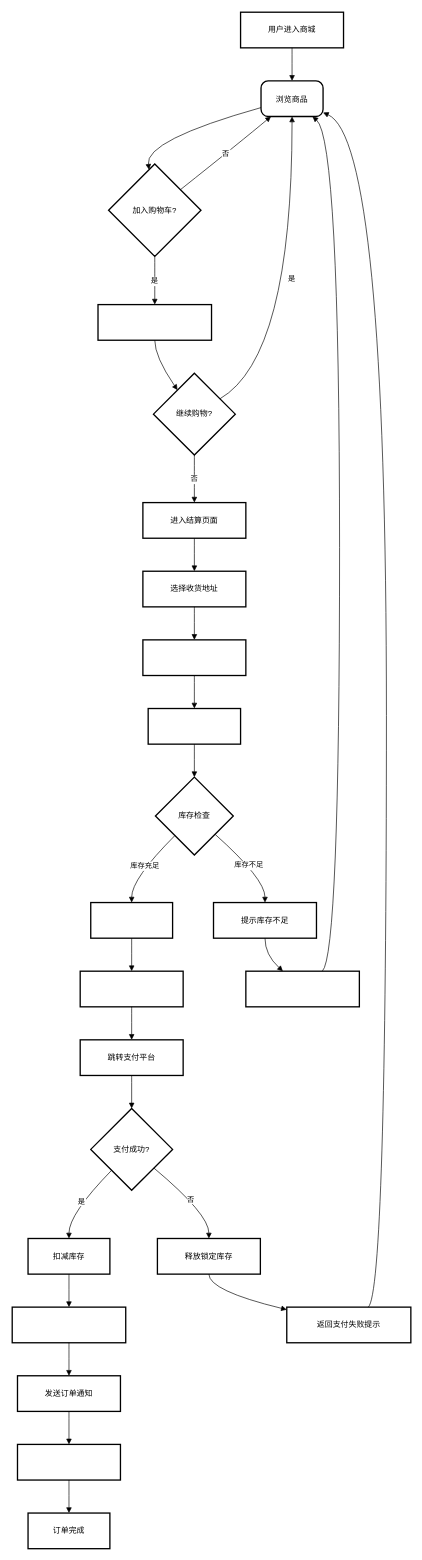
The diagram is 422 pixels wide and 1560 high, and some of its shapes have lost their labels. Each missing label, with the centre of its shape:
"创建支付订单" belongs at (131,988).
"显示订单详情" belongs at (68,1461).
"更新购物车数据" belongs at (154,322).
"生成交易流水号" belongs at (68,1324).
"生成预订单" belongs at (194,726).
"返回购物车修改" belongs at (302,988).
"选择支付方式" belongs at (194,657).
"锁定库存" belongs at (131,920).
